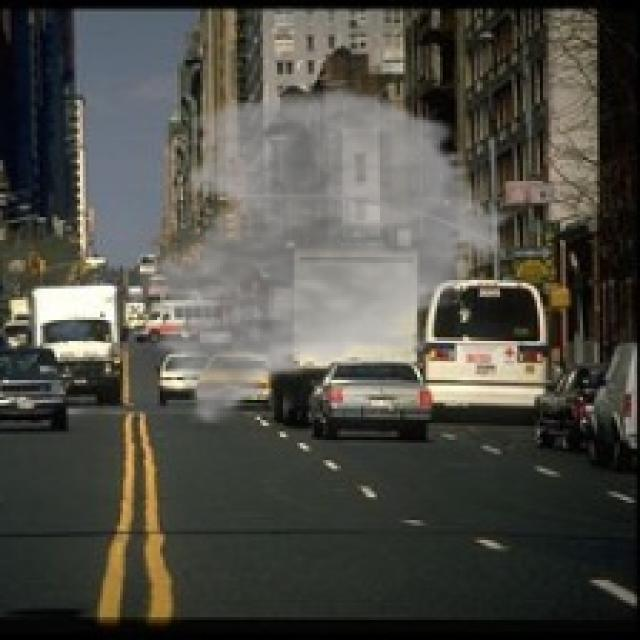Smoke: (128, 82, 520, 428)
